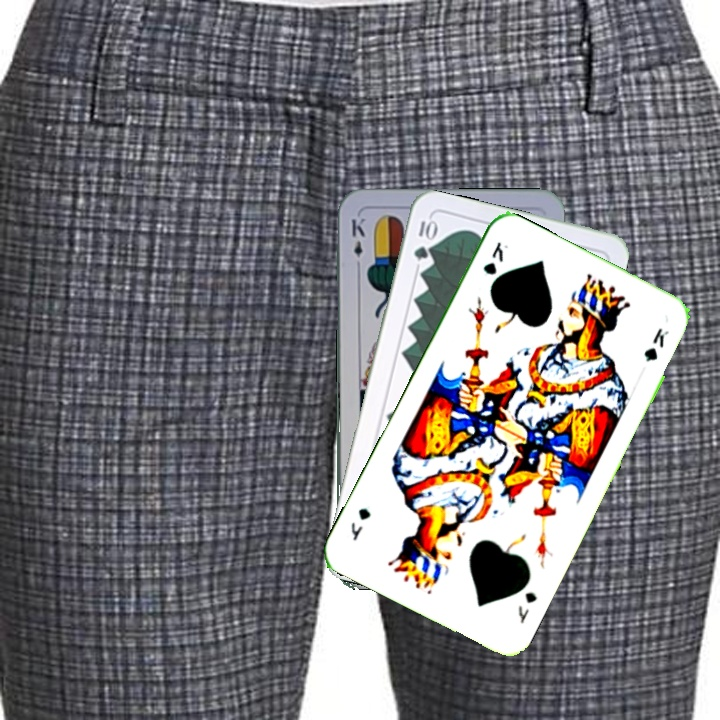EK: (347, 214, 367, 273)
G10: (409, 216, 438, 263)
GK: (479, 237, 511, 278), (514, 587, 540, 627)
